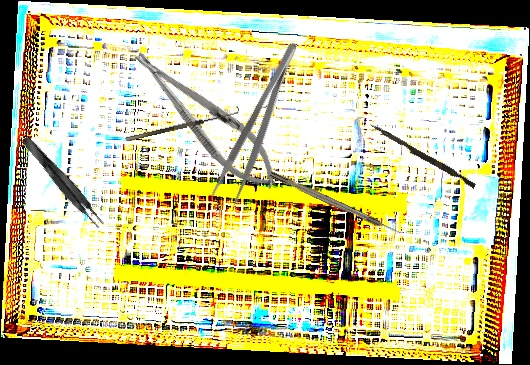Dressing Forceps: (207, 38, 316, 209)
Hook Surgical: (269, 170, 402, 237), (123, 105, 241, 142)
Needle Holder: (121, 36, 291, 202)
Pusher: (368, 123, 478, 189)
Tissue Forceps: (18, 132, 108, 232)
